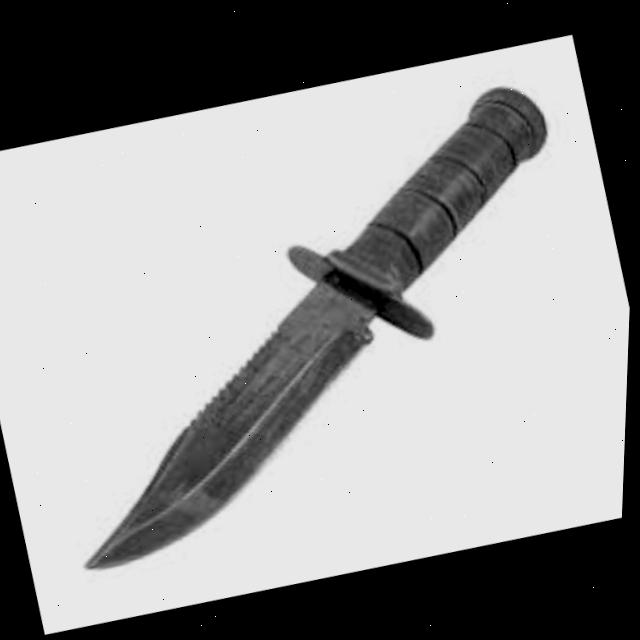knife: (0, 53, 631, 591)
